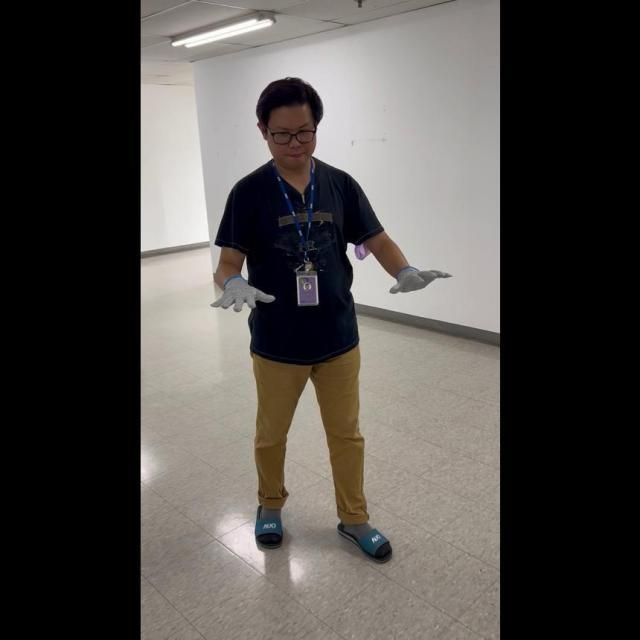gloved_hand: (208, 271, 274, 316), (385, 259, 452, 298)
